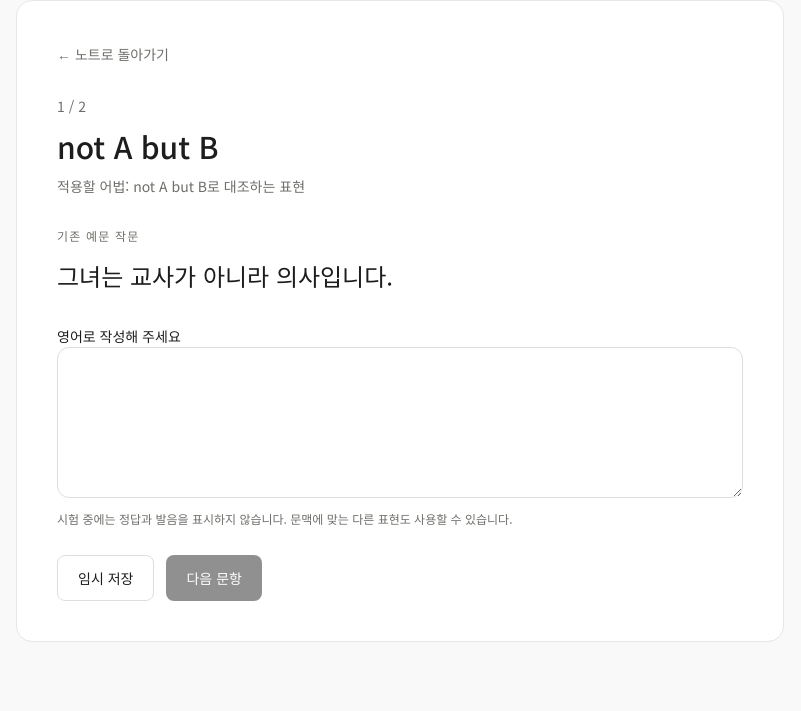
Test: Grammar exam UI › unsaved_exam_input_blocks_refresh_until_persisted
The image size is (801, 711).
Type "Unsaved draft" into the text box labelled "영어로 작성해 주세요".
click(400, 422); type("Unsaved draft")  # box [57,347,743,498]
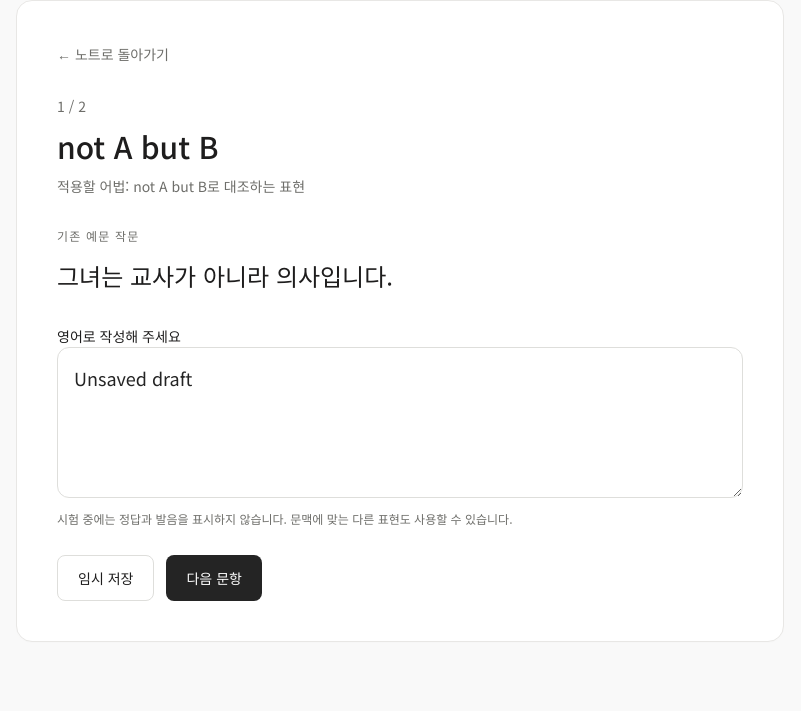
Click the button "임시 저장".
click(106, 578)  # box [57,555,154,601]
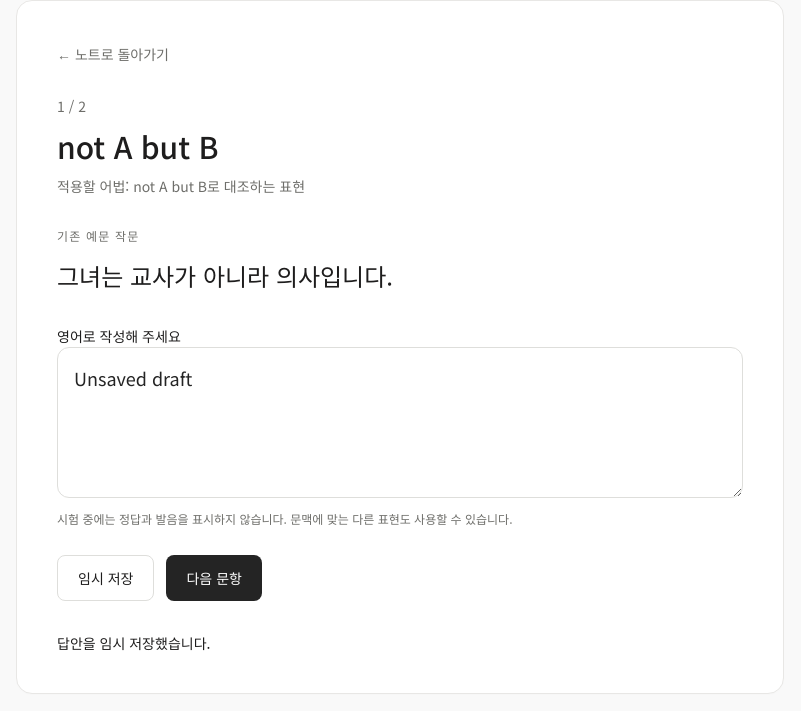
Expected: the text "답안을 임시 저장했습니다." is shown, [57,633,210,653]
